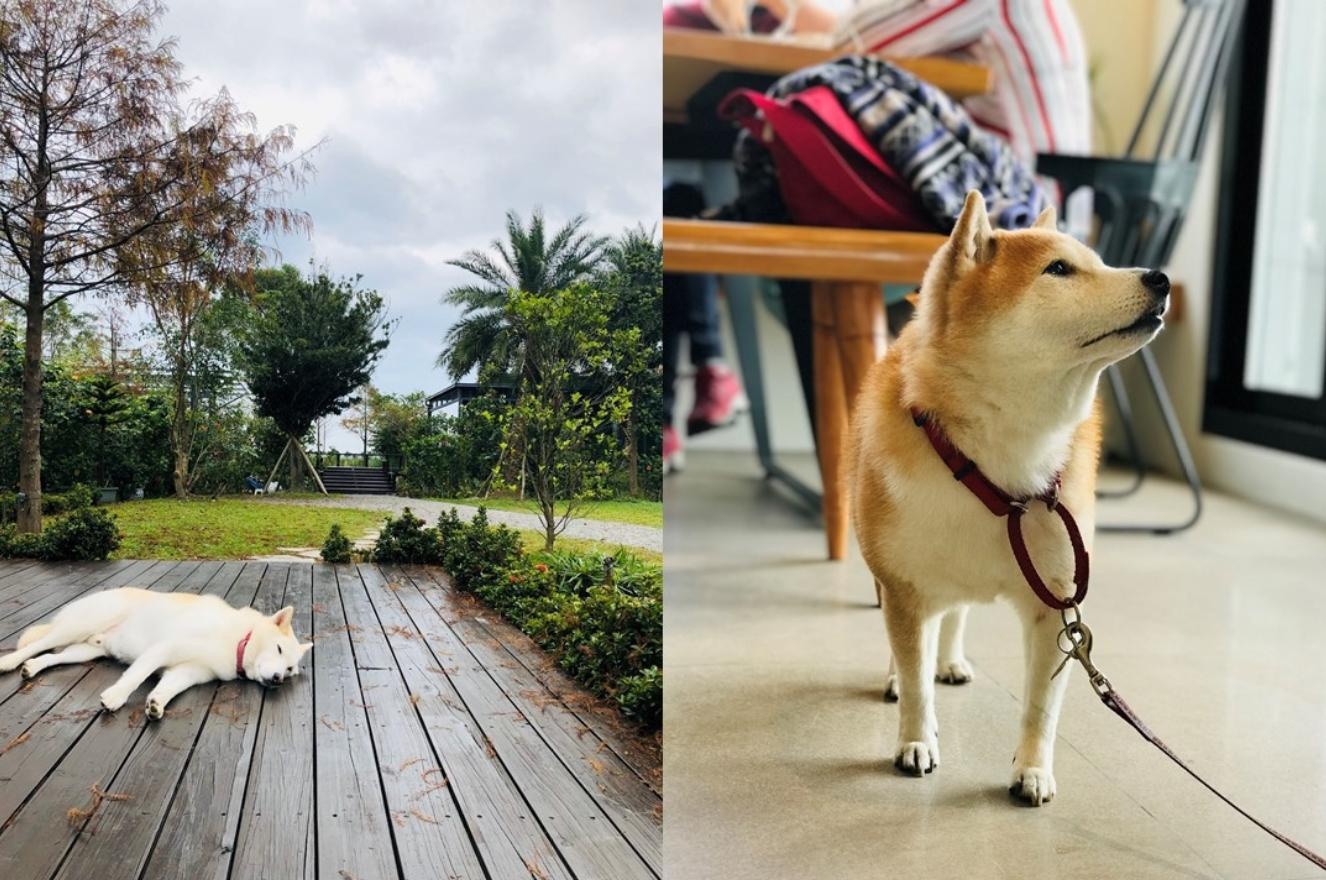animal: (830, 162, 1221, 830), (0, 568, 405, 776)
